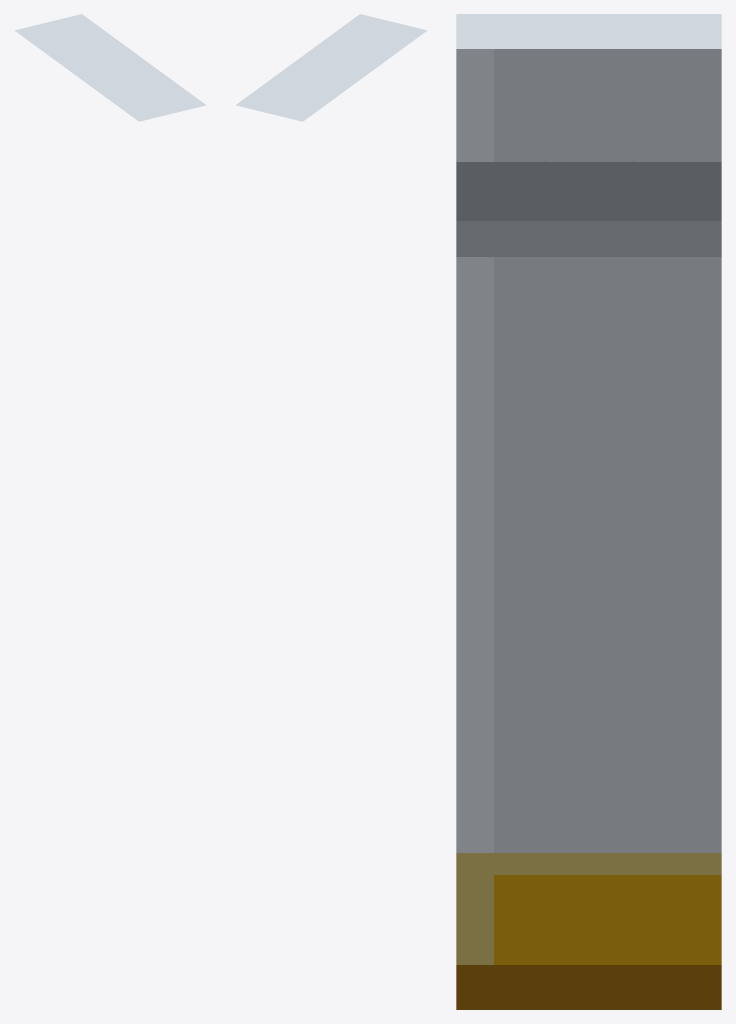
The picture shows the model from 3 angles, left to right: view 1: azimuth 30°, elevation 25°; view 2: azimuth 150°, elevation 25°; view 3: azimuth 270°, elevation 25°; orthographic projection. The views are drawn at different scales.
Size of the model in its own units: 0.3125 by 4 by 1.
Materials: 1 (1 with a texture image).
